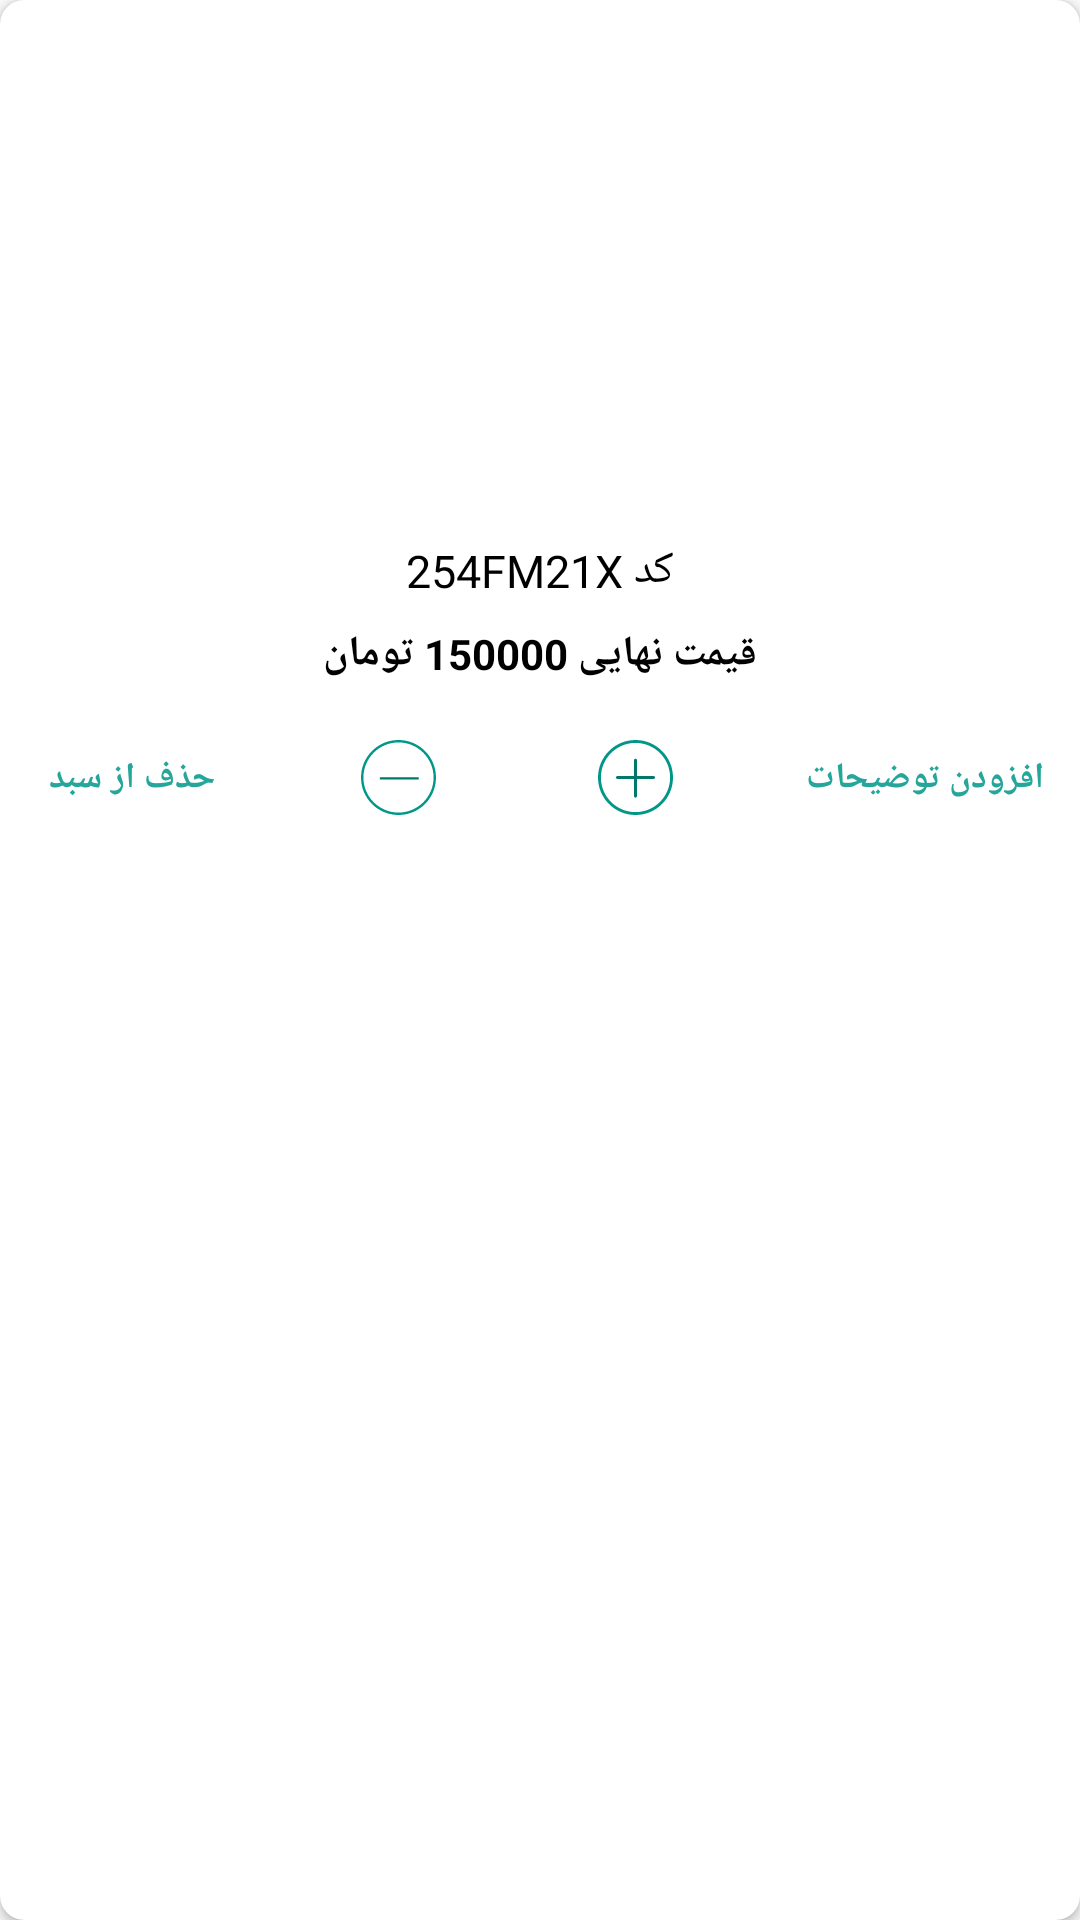

Screen size 1080 x 1920. Icon name, then its box in pixels as (x1=x1, y1=y1, x2=x2, y2=y2):
mines: (x1=361, y1=740, x2=436, y2=815)
plus: (x1=598, y1=740, x2=673, y2=815)
